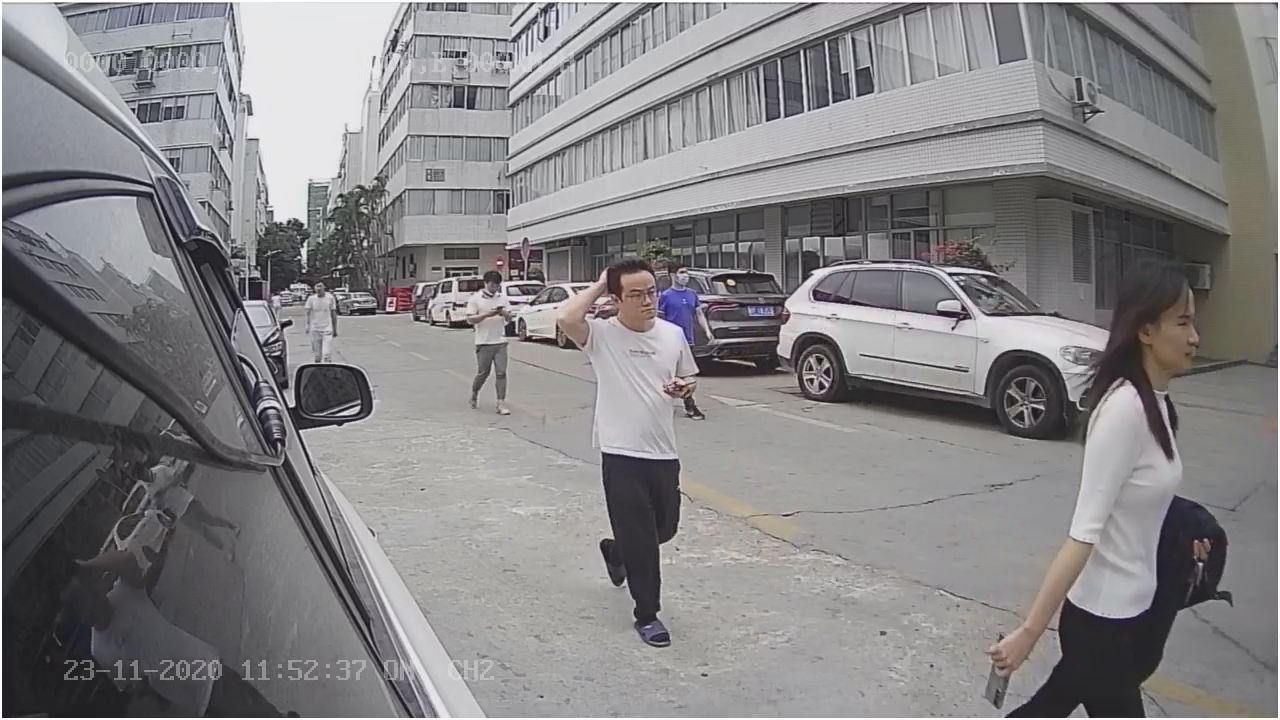person: (1070, 263, 1203, 695), (574, 252, 692, 635)
